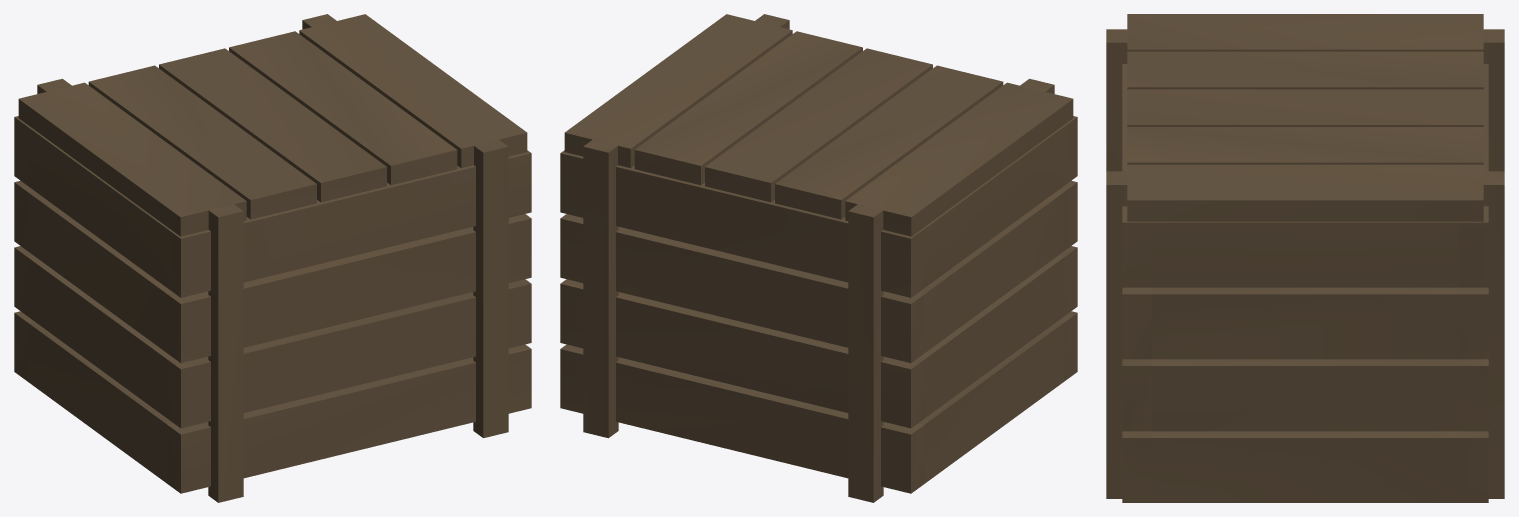
File: wooden-crate.glb
3 renders of one model, left to right at view 1: azimuth 30°, elevation 25°; view 2: azimuth 150°, elevation 25°; view 3: azimuth 270°, elevation 25°, orthographic. The views are drawn at different scales.
Parts seen in each view (by area): view 1: wooden-crate; view 2: wooden-crate; view 3: wooden-crate.
Part boxes in pixels (x1,y1,x2,y2): wooden-crate: (14,14,531,502); wooden-crate: (560,14,1077,502); wooden-crate: (1106,14,1504,502).
Size of the model in its own units: 0.9 by 0.7 by 0.805.
